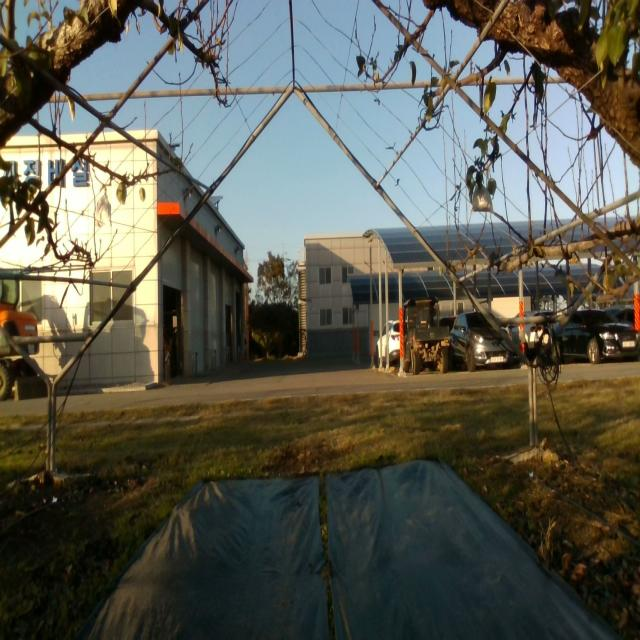pearbags: (469, 183, 495, 216), (94, 194, 112, 226)
